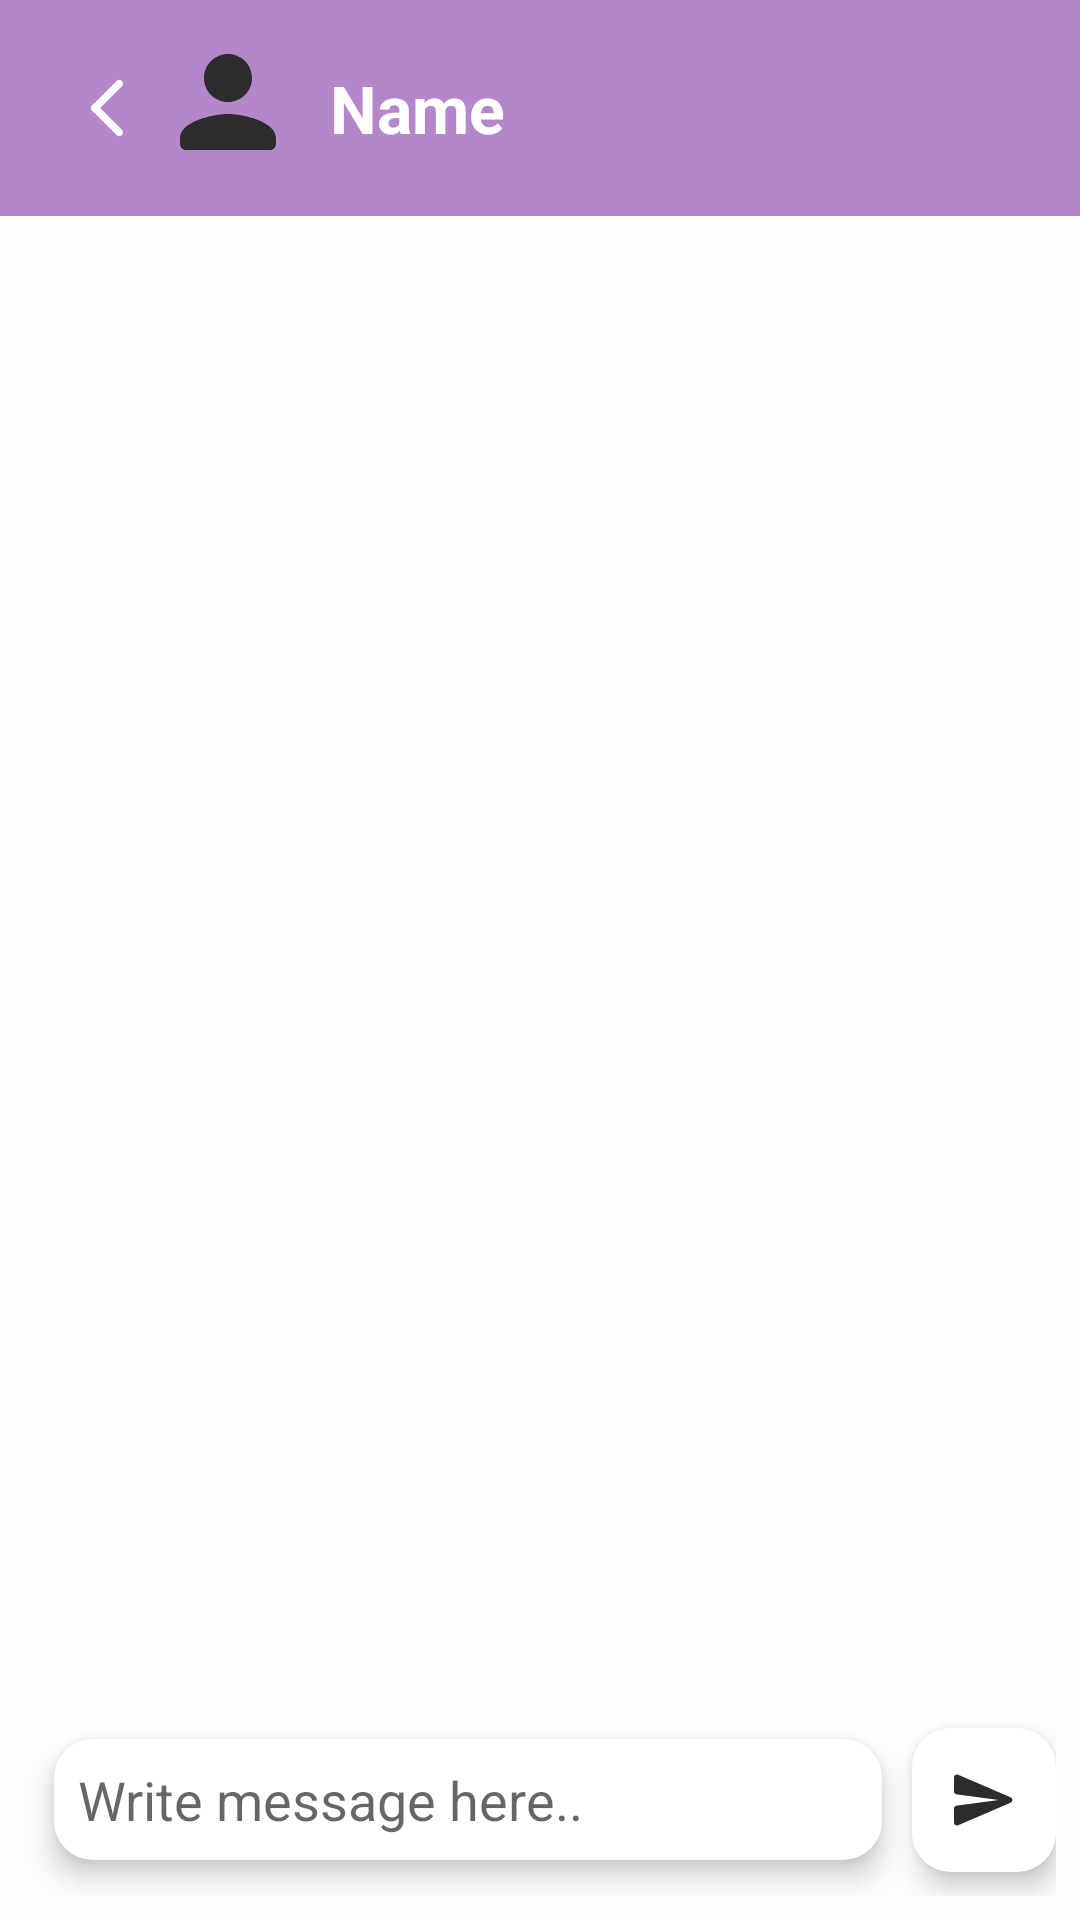

Icon click points for this 1080x1920 phone screenshot, format [x,y]:
arrow back: [106,108]
person: [228,102]
send: [964,1813]
